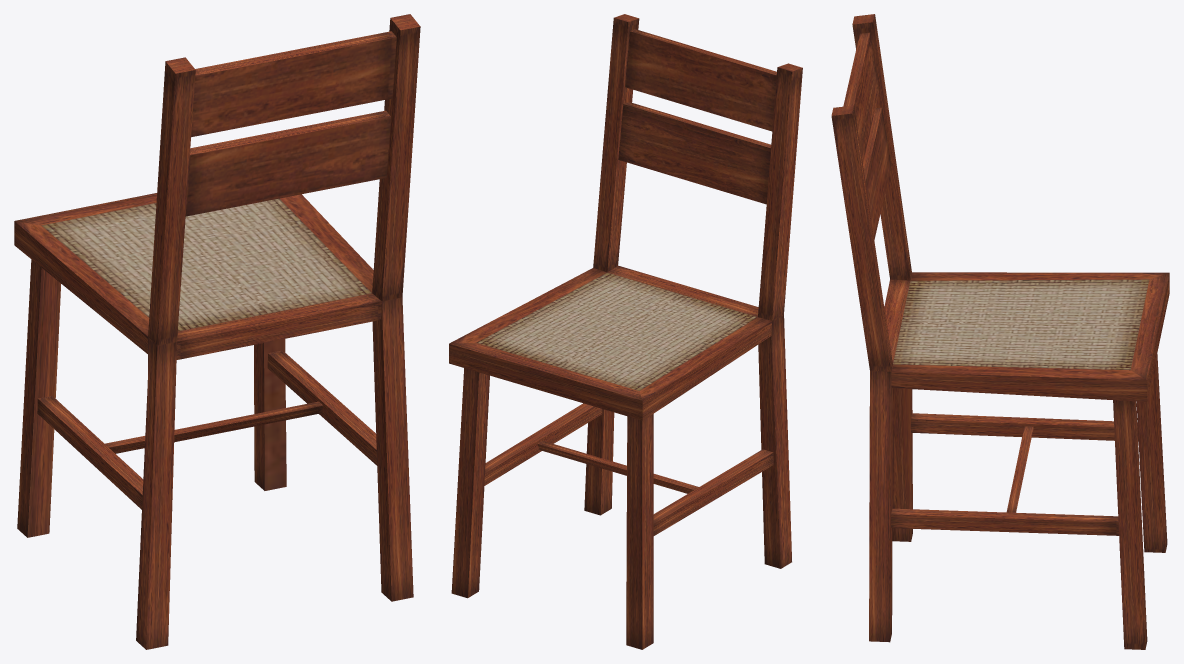
File: kitchen_chair.fbx
3 views of the same model, side by side, from view 1: azimuth 30°, elevation 25°; view 2: azimuth 150°, elevation 25°; view 3: azimuth 270°, elevation 25° (orthographic). The views are drawn at different scales.
Parts seen in each view (by area): view 1: mesh_0; view 2: mesh_0; view 3: mesh_0.
Part boxes in pixels (left/top/right/bottom): mesh_0: left=14, top=14, right=420, bottom=649; mesh_0: left=449, top=14, right=802, bottom=649; mesh_0: left=831, top=14, right=1169, bottom=649.
Bounding box in the file's own units: 46.54 × 95.43 × 55.96.
Materials: 1 (1 with a texture image).
